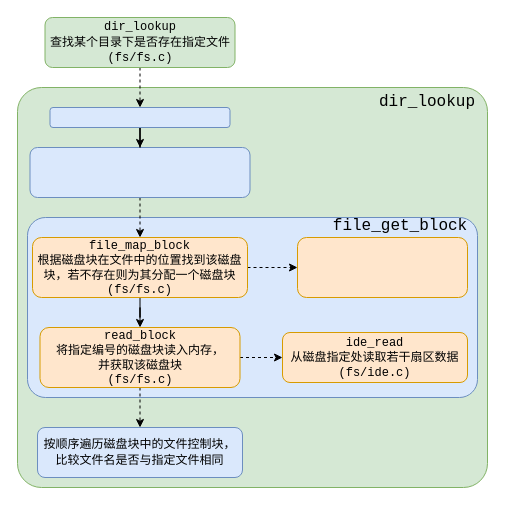
The diagram is 505 pixels wide and 505 high, and some of its shapes have lost their labels. Here are the shapes that lost their labels. From the top down, the box of each, then its label:
(49, 106, 230, 128): 按顺序依次遍历 目录中的磁盘块
(29, 146, 250, 198): file_get_block 将某个指定的文件 指向 的磁盘块读入内存 ( fs/fs.c )
(296, 236, 468, 298): file_block_walk 根据磁盘块在文件中的 位置 找到 该磁盘块指针（磁盘块号） ( fs/fs.c )
